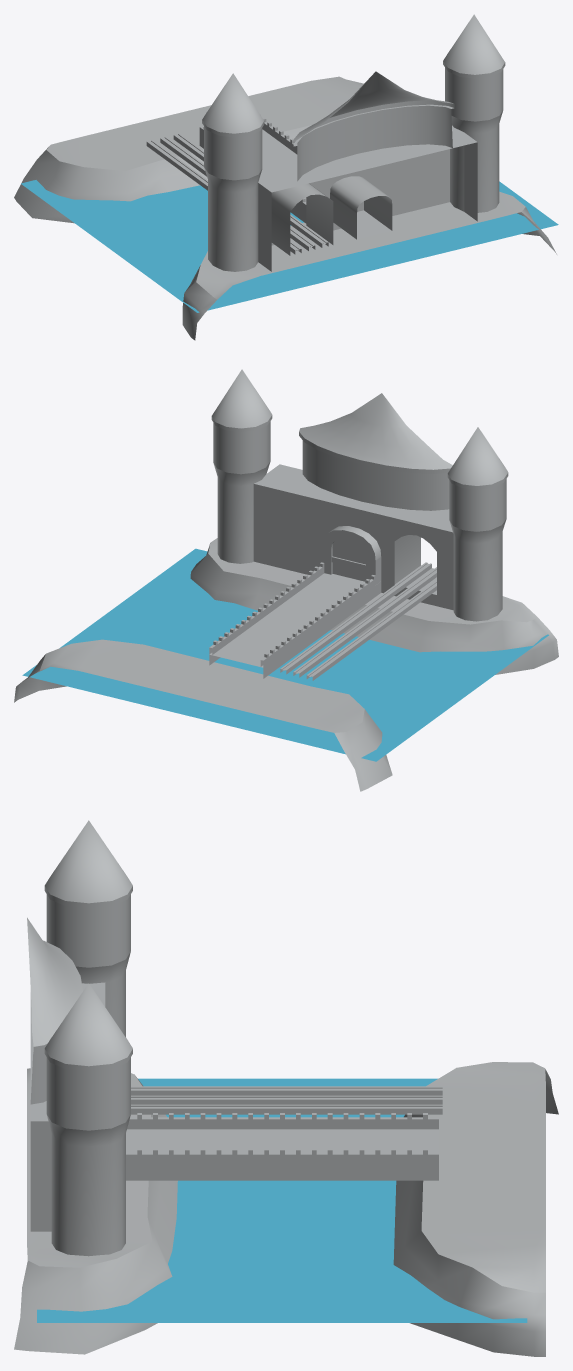
The model's file is Medieval Castle.fbx.
The picture shows the model from 3 angles, top to bottom: view 1: azimuth 30°, elevation 25°; view 2: azimuth 150°, elevation 25°; view 3: azimuth 270°, elevation 25°; orthographic projection. The views are drawn at different scales.
Visible parts, largest first — view 1: Castel, Water, Land2, Land1, Floor, Rail3, Rail2, Rail1, Fences2; view 2: Castel, Water, Land2, Land1, Floor, Rail1, Rail2, Fences2, Fences1, Rail3, Door, Door1; view 3: Water, Castel, Land2, Land1, Floor, Fences2, Fences1, Rail1, Rail2, Rail3.
Boxes of the visible parts, box(x1,y1,x2,y2) form: Castel: box(202, 14, 505, 271); Water: box(21, 180, 558, 312); Land2: box(14, 76, 363, 223); Land1: box(182, 191, 556, 340); Floor: box(199, 129, 364, 223); Rail3: box(146, 140, 301, 254); Rail2: box(160, 137, 315, 250); Rail1: box(173, 133, 328, 247); Fences2: box(260, 114, 297, 154); Castel: box(211, 369, 508, 621); Water: box(22, 548, 548, 761); Land2: box(14, 639, 392, 791); Land1: box(190, 538, 558, 674); Floor: box(209, 573, 381, 678); Rail1: box(280, 562, 431, 674); Rail2: box(293, 567, 436, 677); Fences2: box(209, 562, 324, 654); Fences1: box(260, 575, 375, 667); Rail3: box(306, 580, 436, 680); Door: box(331, 540, 349, 577); Door1: box(349, 542, 365, 581); Water: box(37, 1078, 527, 1322); Castel: box(27, 820, 132, 1256); Land2: box(393, 1062, 558, 1356); Land1: box(14, 1068, 177, 1354); Floor: box(126, 1129, 438, 1180); Fences2: box(126, 1148, 438, 1164); Fences1: box(127, 1113, 438, 1129); Rail1: box(131, 1104, 442, 1114); Rail2: box(131, 1095, 442, 1104); Rail3: box(131, 1086, 442, 1095).
Bounding box in the file's own units: 372 × 228 × 343.
